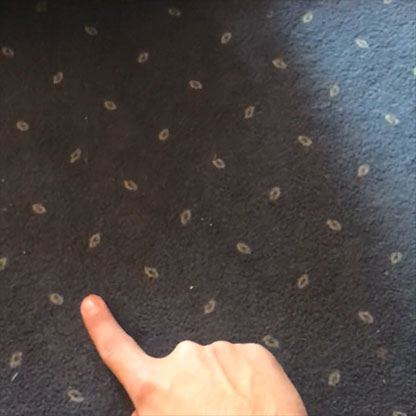fingertip: (71, 288, 113, 326)
